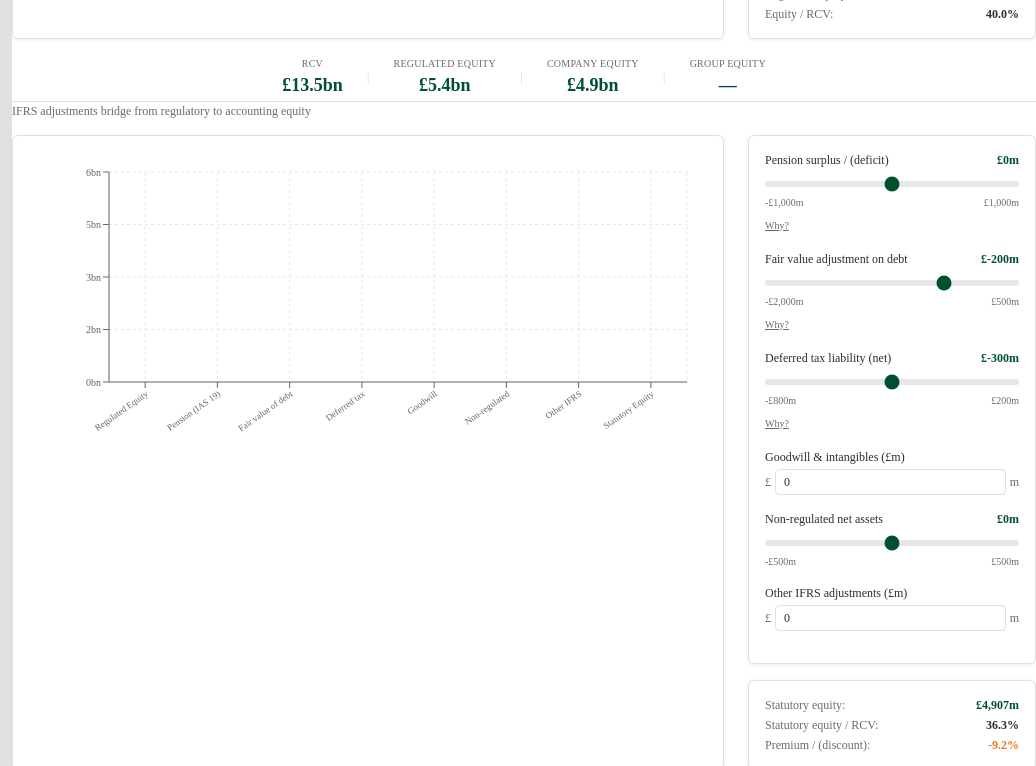
Test case: EquityBridge › deferred tax slider updates statutory equity correctly
(page scrolled)
expect the text "Deferred tax liability (net)" is shown: met, box [765, 350, 891, 366]
Set the slider below "Deferred tax liability (net)" to "0" at (963, 382), box [765, 379, 1019, 385]
(page scrolled)
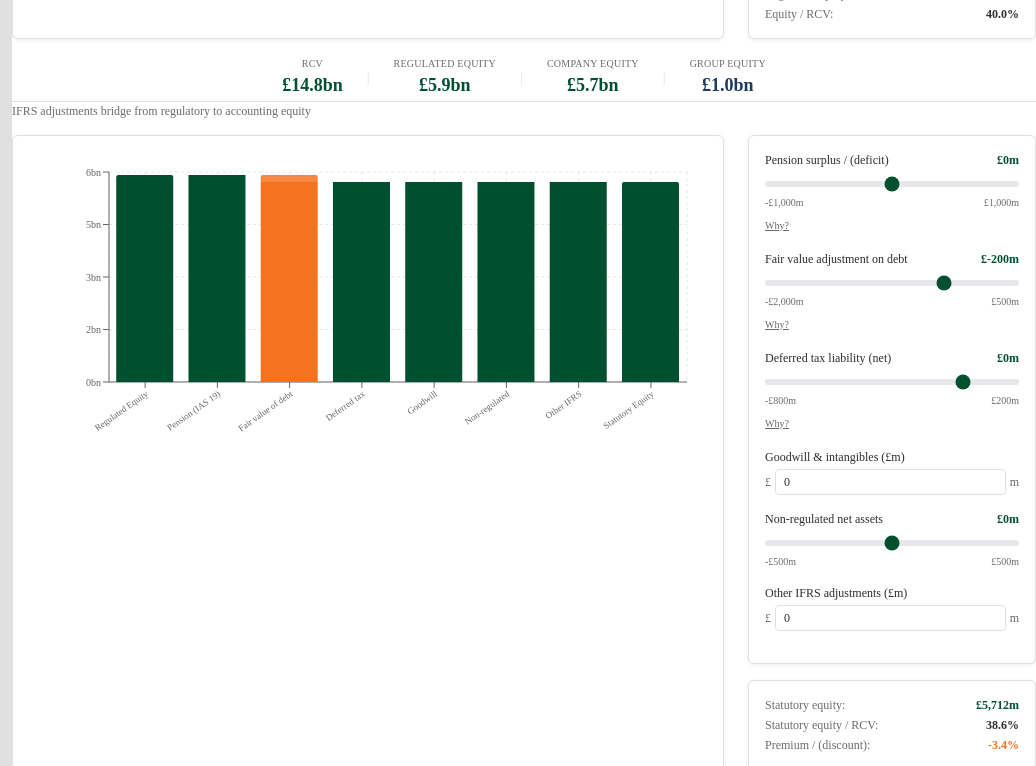
expect the text "£5,712m" is shown: met, box [976, 697, 1019, 713]
